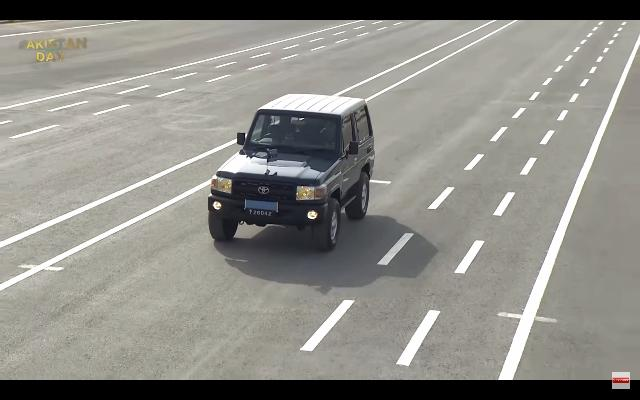plate: (247, 207, 275, 219)
